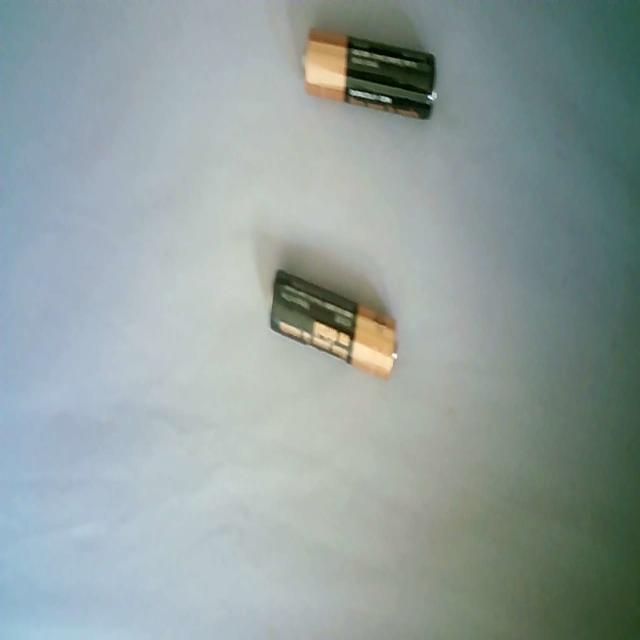AA: (269, 267, 398, 380), (301, 26, 438, 120)
